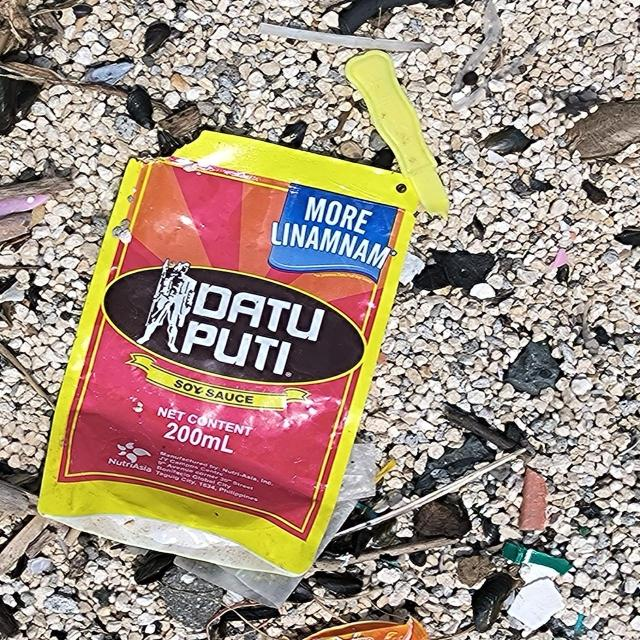plastic_waste: (36, 127, 422, 582)
